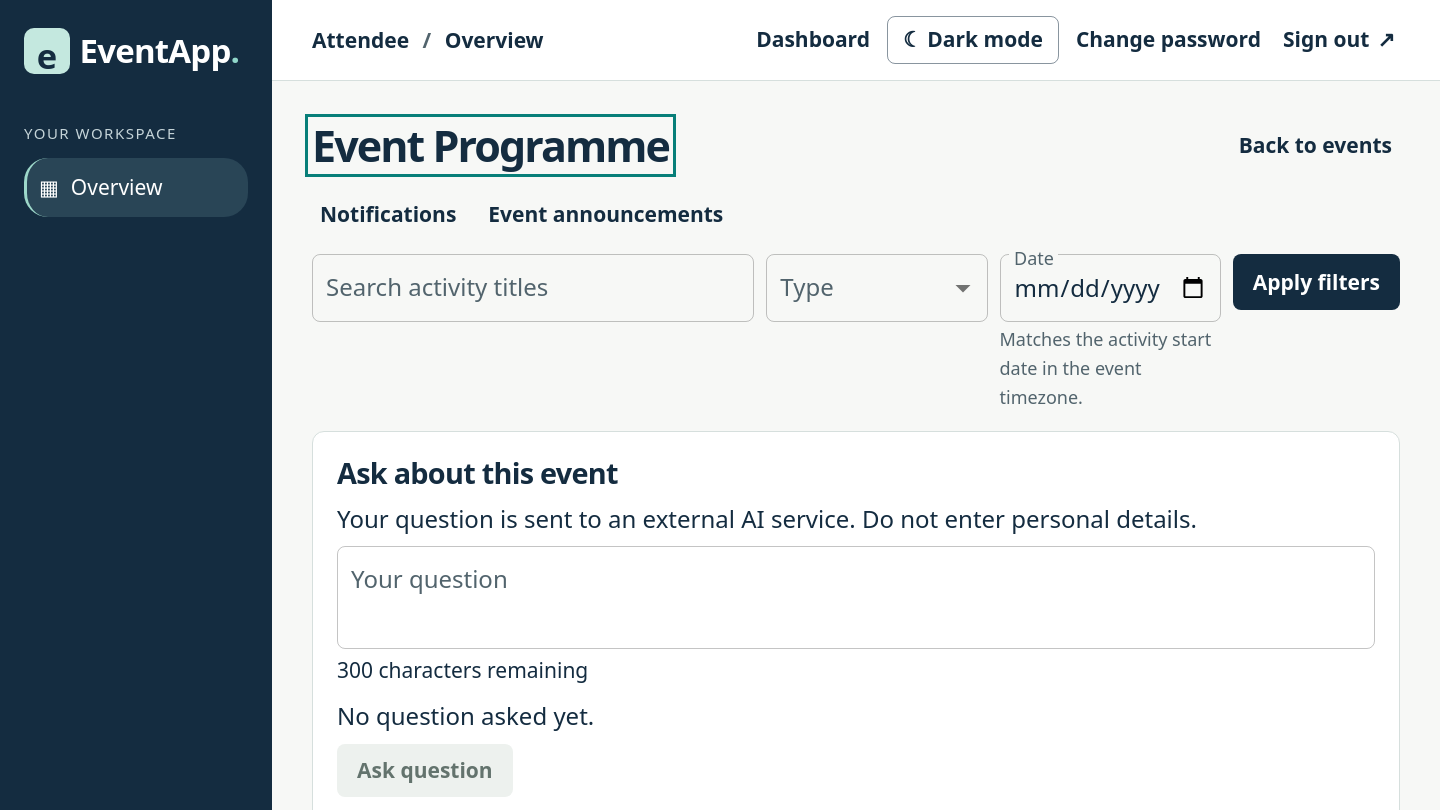
Test: F03-US02 attendee event question UI (AC01-AC06) › F03Q-UI08 without a validated summary the verified facts are shown and no AI summary is claimed
Check: the heading "Event Programme" is shown, box [312,121,669,170]
Click the text box labelled "Your question": (856, 598) [351,563,1361,633]
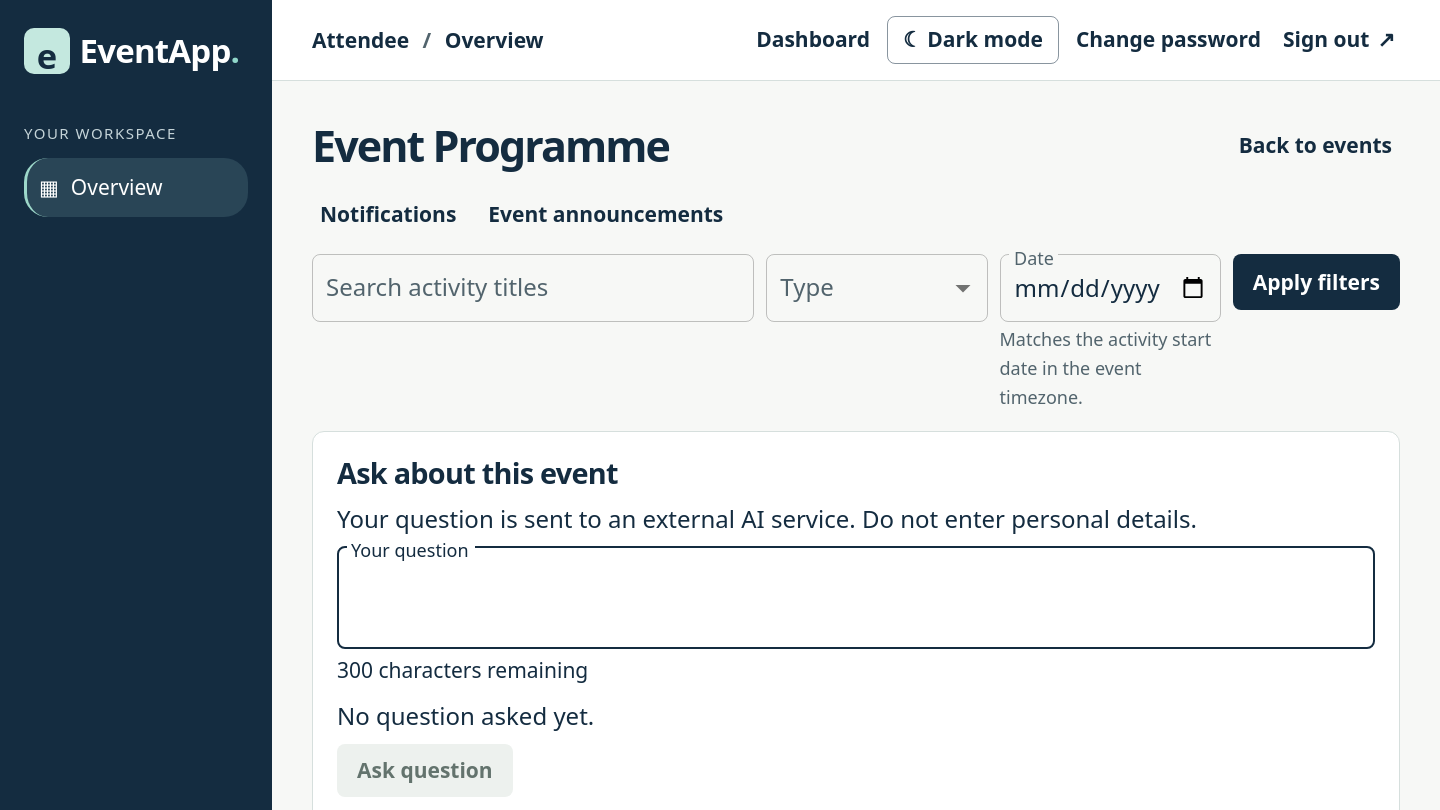
Type keys "When does the evening workshop start and what does it cost?"
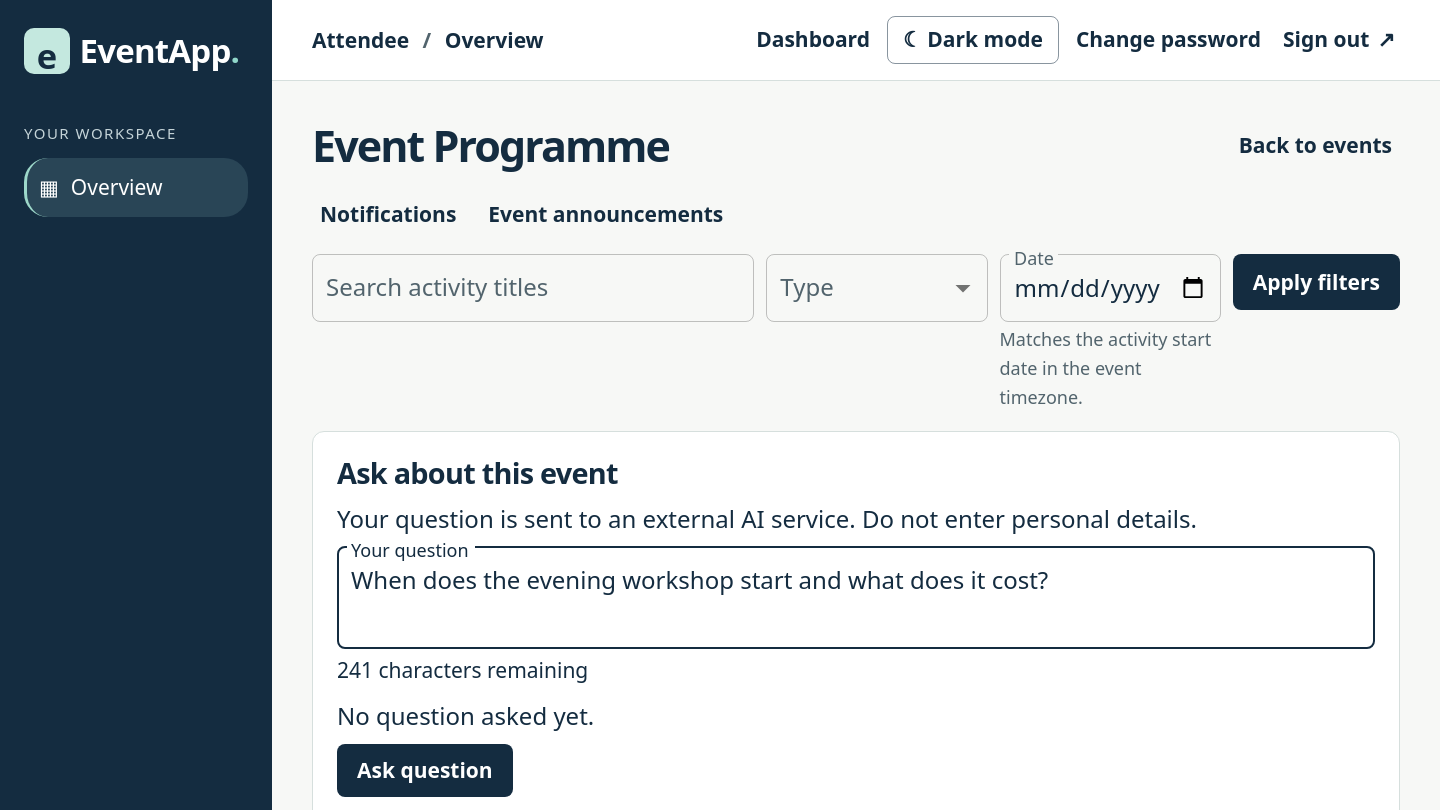
Click the button "Ask question": (425, 770) [337,744,513,797]
(page scrolled)
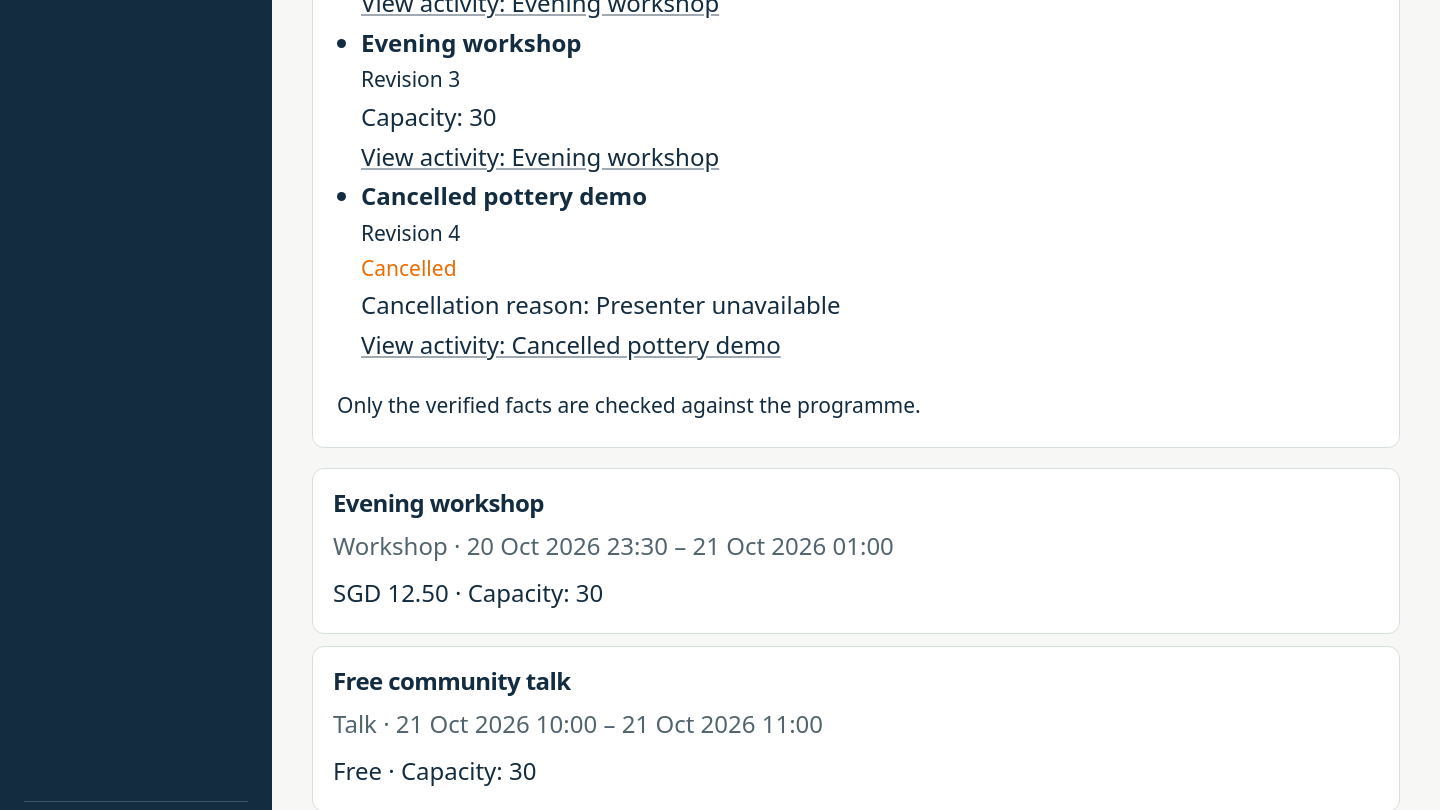
Check: the number of list items is 6
Check: the text "Only the verified facts are checked against the programme." is shown, box [337,391,921,419]
